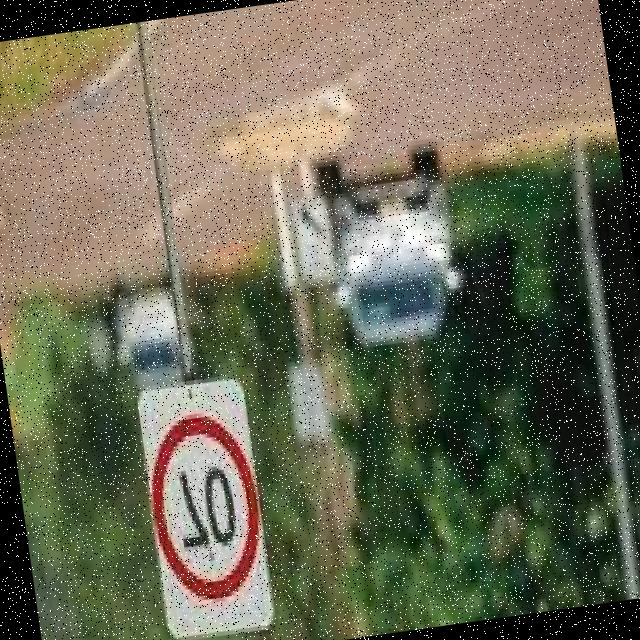speed_limit_70: (140, 405, 270, 610)
